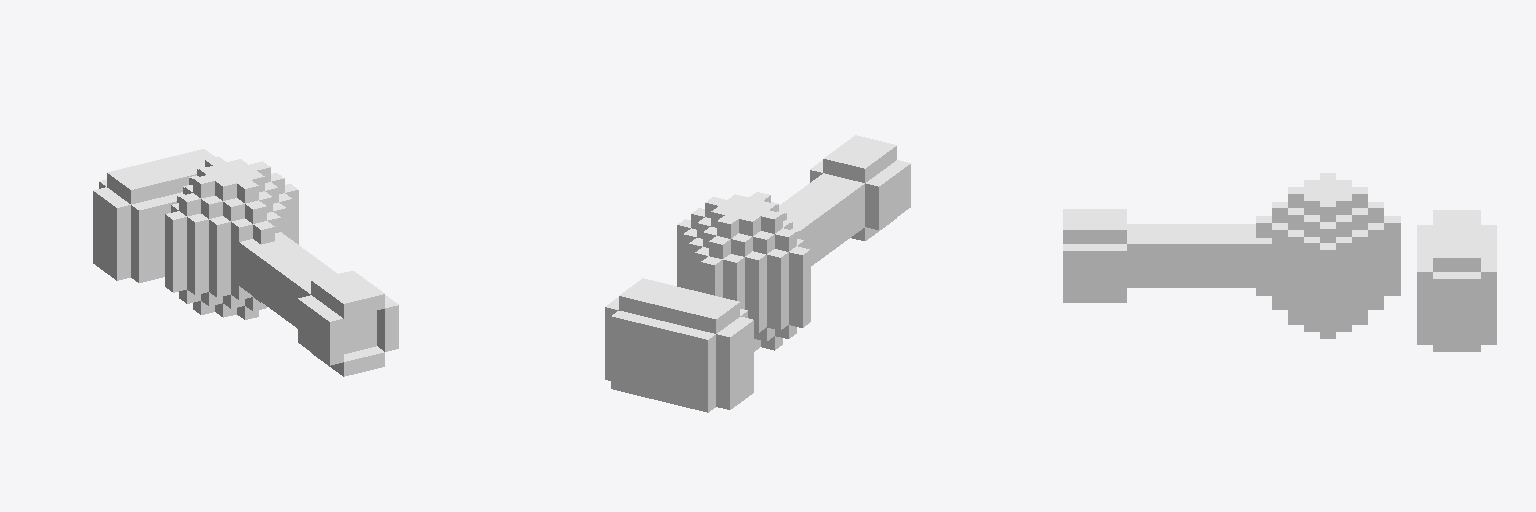
The model's file is tanquinho_topo_vermelho.obj.
The picture shows the model from 3 angles: view 1: azimuth 30°, elevation 25°; view 2: azimuth 150°, elevation 25°; view 3: azimuth 270°, elevation 25°; orthographic projection.
Parts seen in each view (by area): view 1: object 1; view 2: object 1; view 3: object 1.
Part boxes in pixels (x1,y1,x2,y2): object 1: (93,149,398,376); object 1: (605,135,910,412); object 1: (1063,173,1496,351).
Size of the model in its own units: 0.9 by 0.9 by 2.7.